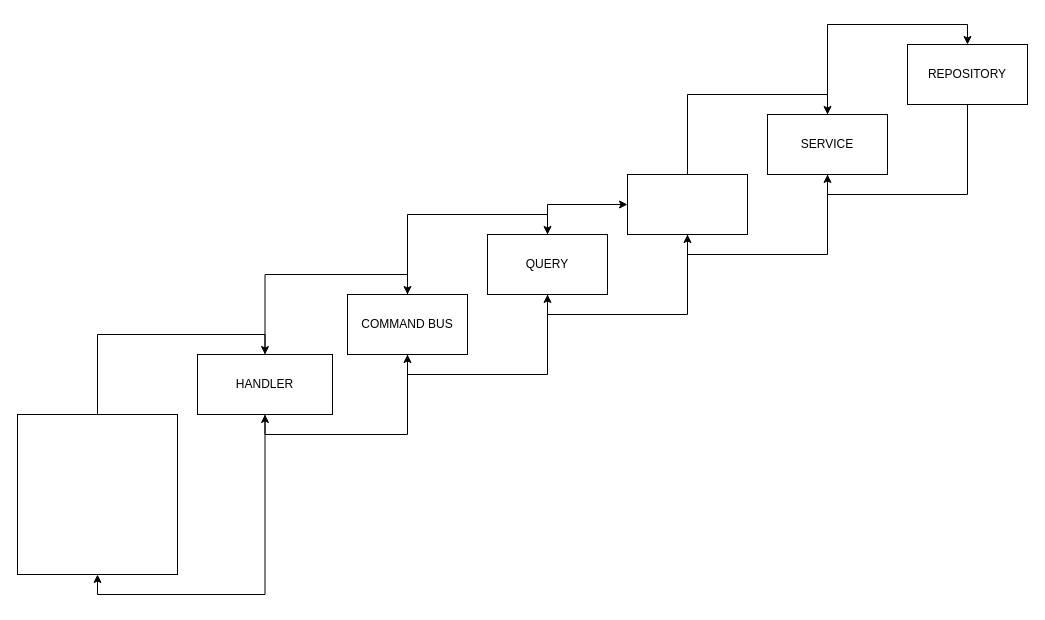
Image size: 1045x620. Some labels were removed from this diagram. Each missing label, with the box of its shape:
HTTP REQUEST: (16, 414, 178, 574)
QUERY HANDLER: (626, 174, 748, 234)
